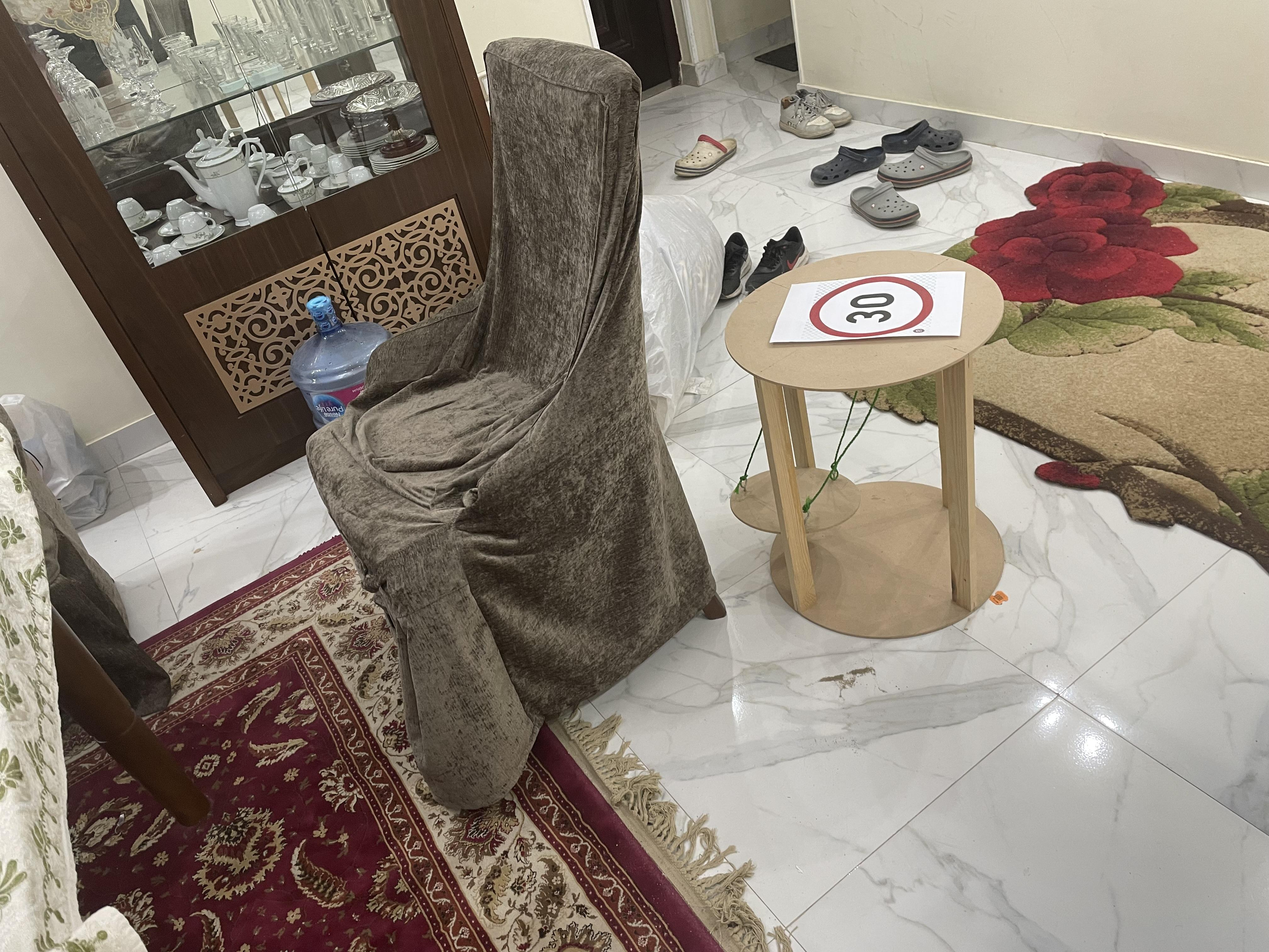30-speed: (809, 271, 947, 342)
